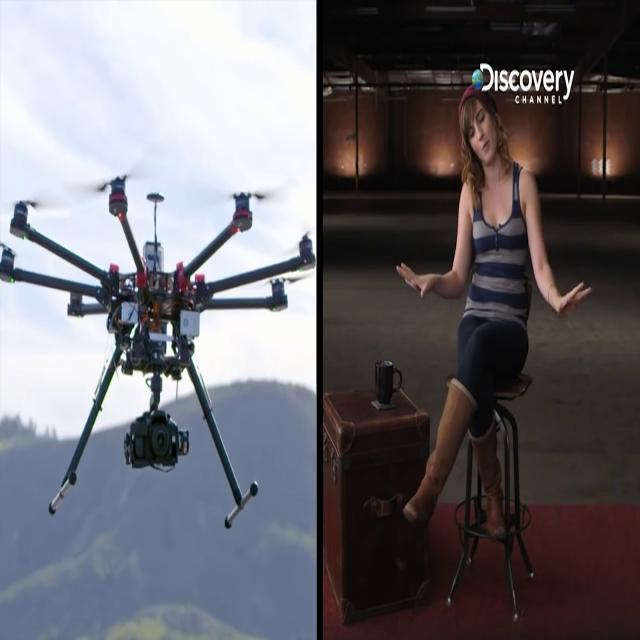drone: (7, 158, 312, 528)
